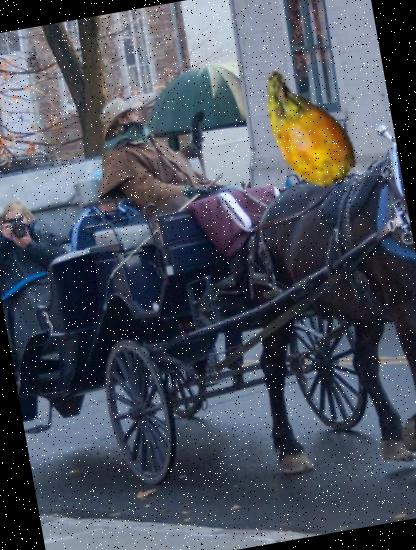Cactus: (228, 52, 380, 206)
